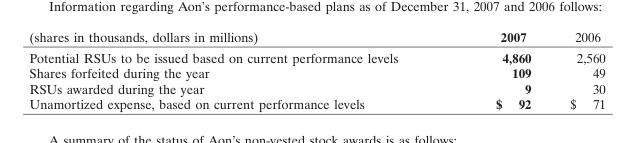table: (28, 28, 604, 111)
table column: (28, 28, 446, 111), (446, 28, 549, 111), (549, 28, 604, 111)
table column header: (28, 28, 604, 46)
table row: (28, 28, 604, 46), (28, 46, 604, 64), (28, 64, 604, 80), (28, 95, 604, 111), (28, 80, 604, 95)
